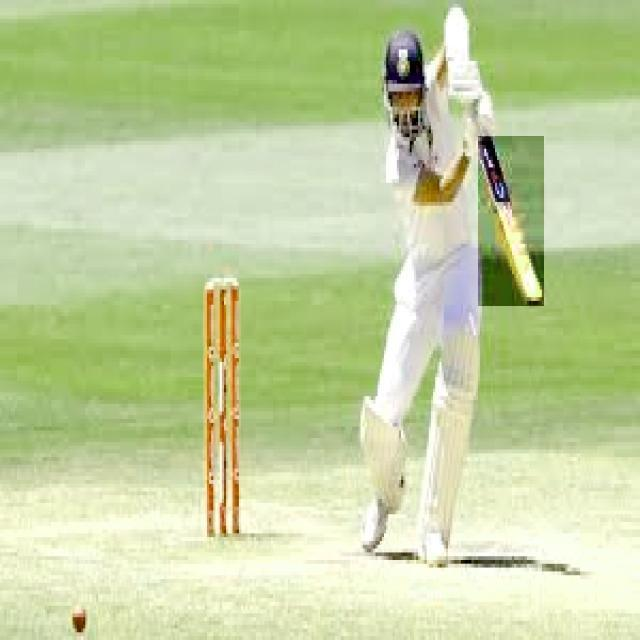bat: (479, 141, 540, 304)
toe: (521, 293, 549, 305)
